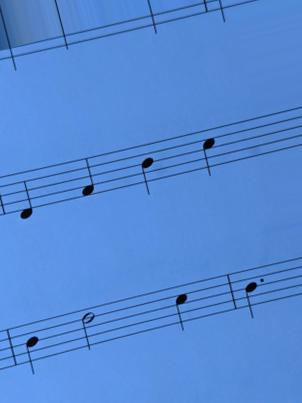B: (19, 321, 44, 379), (238, 267, 261, 326), (137, 142, 160, 200)
D: (11, 169, 39, 225)
F: (73, 155, 99, 202)
HC: (171, 282, 194, 336), (199, 125, 220, 181)
